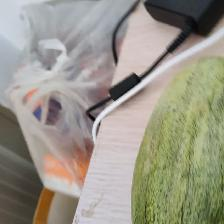gua: (154, 102, 206, 212)
